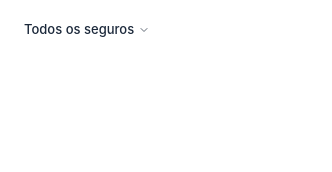
Navegação acessível › só monta o conteúdo do menu quando ele é aberto
Click the button "Todos os seguros". click: (87, 30)
box: [12,12,162,48]
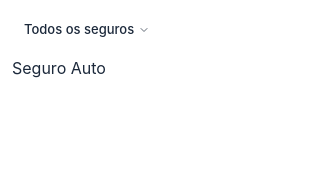
Result: the link "Seguro Auto" is shown at [12,58,106,78]
Press Escape in the button "Todos os seguros", box [12,12,162,48]
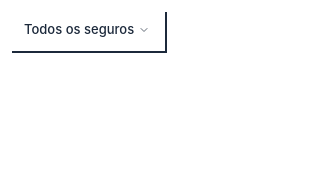
Result: the link "Seguro Auto" is gone
